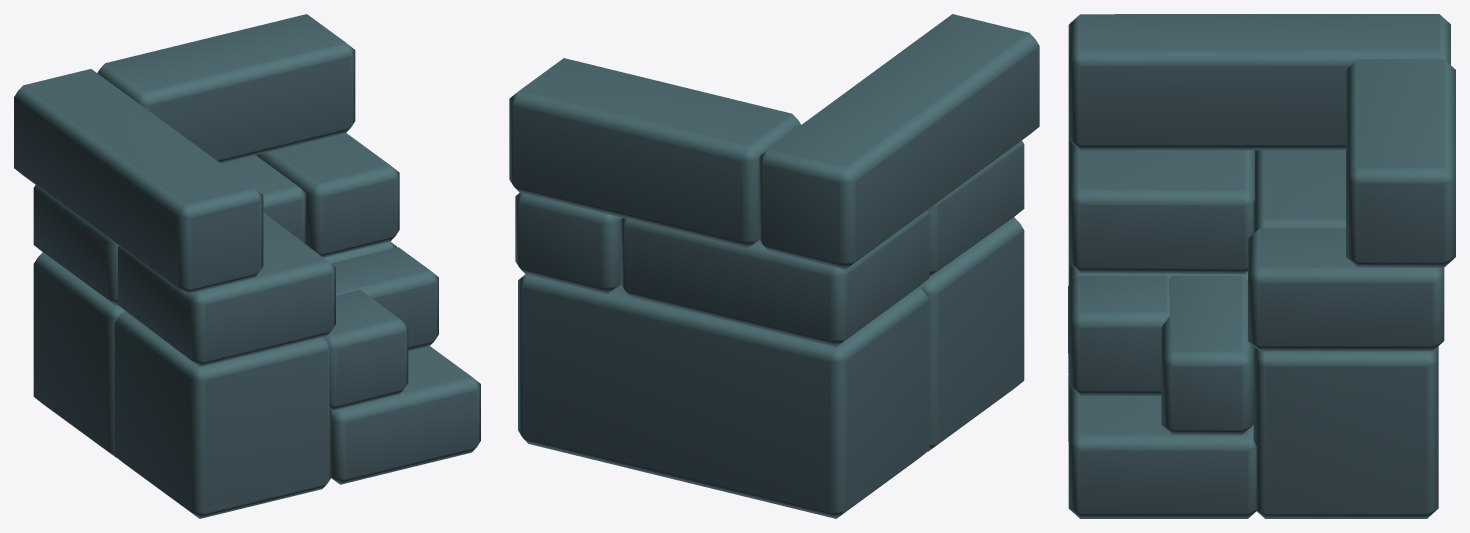
The model's file is stair_corner_concave_hue_2.fbx.
The picture shows the model from 3 angles, left to right: view 1: azimuth 30°, elevation 25°; view 2: azimuth 150°, elevation 25°; view 3: azimuth 270°, elevation 25°; orthographic projection. The views are drawn at different scales.
Visible parts, largest first — view 1: stair_corner_concave_hue_2; view 2: stair_corner_concave_hue_2; view 3: stair_corner_concave_hue_2.
Part boxes in pixels (x1,y1,x2,y2): stair_corner_concave_hue_2: (14,14,480,518); stair_corner_concave_hue_2: (509,14,1039,518); stair_corner_concave_hue_2: (1068,14,1455,518).
Bounding box in the file's own units: 105 × 105 × 105.
